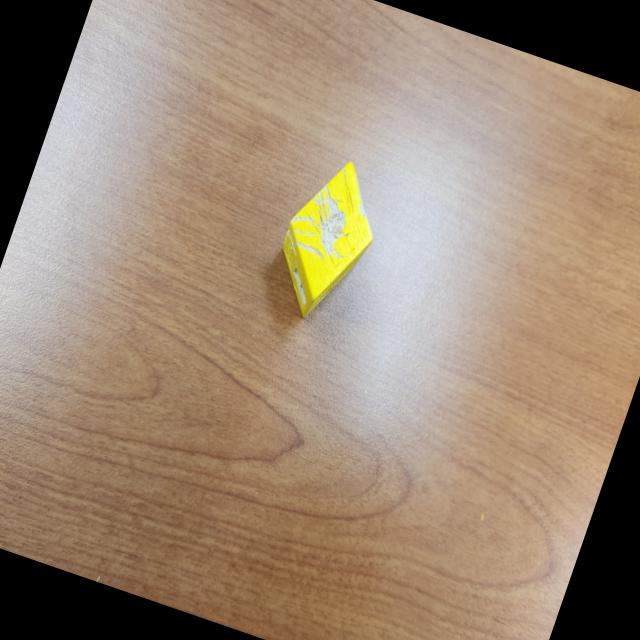broken: (262, 149, 393, 328)
